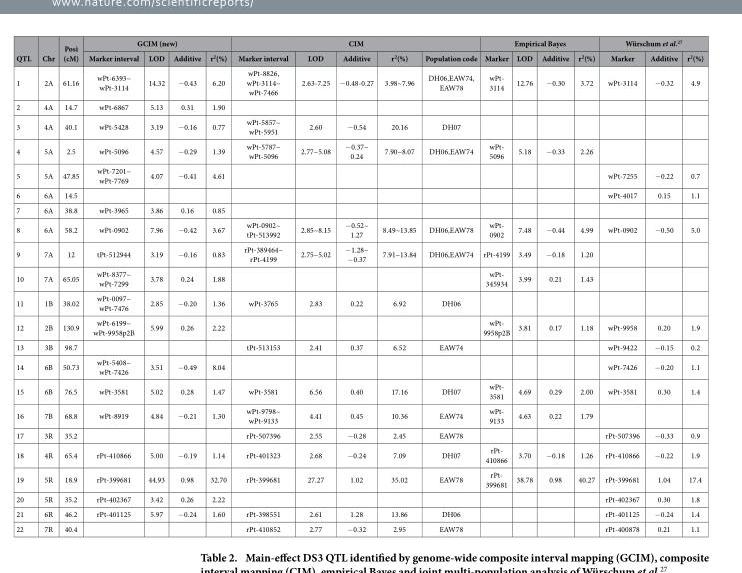table: (15, 37, 703, 533)
table column: (231, 37, 293, 533), (83, 37, 142, 533), (420, 37, 479, 533), (599, 37, 644, 533), (334, 37, 377, 533), (377, 37, 420, 533), (293, 37, 334, 533), (536, 37, 573, 533), (644, 37, 681, 533), (168, 37, 204, 533), (479, 37, 512, 533), (204, 37, 231, 533), (142, 37, 168, 533), (573, 37, 599, 533), (58, 37, 83, 533), (512, 37, 536, 533), (35, 37, 58, 533), (681, 37, 703, 533), (15, 37, 35, 533)
table column header: (15, 37, 703, 65)
table row: (15, 65, 703, 99), (15, 138, 703, 163), (15, 241, 703, 266), (15, 314, 703, 339), (15, 378, 703, 403), (15, 466, 703, 491), (15, 114, 703, 138), (15, 163, 703, 187), (15, 217, 703, 241), (15, 266, 703, 290), (15, 290, 703, 314), (15, 354, 703, 378), (15, 403, 703, 427), (15, 442, 703, 466), (15, 50, 703, 65), (15, 99, 703, 114), (15, 187, 703, 202), (15, 202, 703, 217), (15, 339, 703, 354), (15, 427, 703, 442), (15, 491, 703, 506), (15, 506, 703, 521), (15, 37, 703, 50), (15, 521, 703, 533)
table spanning cell: (231, 37, 479, 50), (83, 37, 231, 50), (479, 37, 599, 50), (599, 37, 703, 50), (58, 37, 83, 65), (35, 37, 58, 65), (15, 37, 35, 65)
